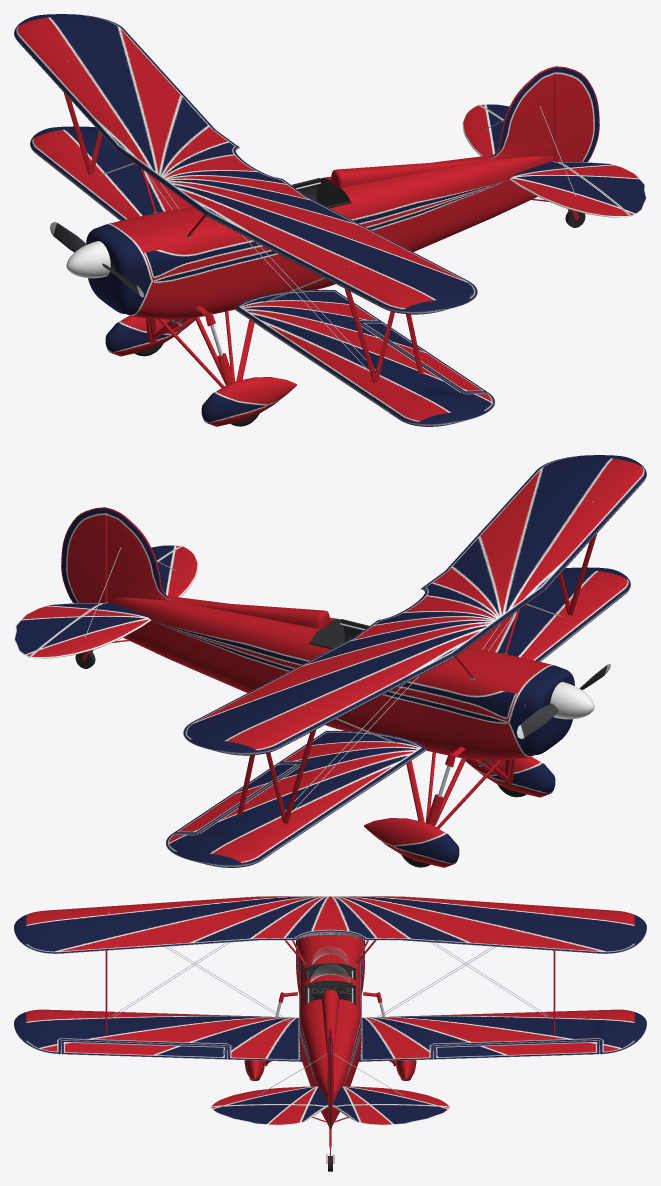
Rendered from great-lakes-like-own-red-sunburst.glb.
3 views of the same model, one above another, from view 1: azimuth 30°, elevation 25°; view 2: azimuth 150°, elevation 25°; view 3: azimuth 270°, elevation 25° (orthographic). The views are drawn at different scales.
Visible parts, largest first — view 1: Wing_Upper, Fuselage_Painted, Wing_Lower, Stab, Rudder, Fin, Wheel_Pant_L, Elevator_L, Strut_Interplane, Wheel_Pant_R, Headrest, Aileron_LL (+4 smaller); view 2: Wing_Upper, Fuselage_Painted, Wing_Lower, Stab, Rudder, Fin, Wheel_Pant_R, Elevator_R, Strut_Interplane, Wheel_Pant_L, Headrest, Aileron_LR (+4 smaller); view 3: Wing_Upper, Wing_Lower, Fuselage_Painted, Stab, Aileron_LL, Aileron_LR, Elevator_L, Elevator_R, Wire_Bracing, Headrest, Strut_Interplane, Cockpit (+1 smaller).
Part boxes in pixels (left/top/right/bottom): Wing_Upper: left=14, top=14, right=477, bottom=314; Fuselage_Painted: left=86, top=155, right=553, bottom=319; Wing_Lower: left=30, top=126, right=494, bottom=426; Stab: left=462, top=105, right=630, bottom=217; Rudder: left=553, top=66, right=599, bottom=162; Fin: left=489, top=66, right=554, bottom=159; Wheel_Pant_L: left=201, top=377, right=296, bottom=426; Elevator_L: left=558, top=162, right=646, bottom=216; Strut_Interplane: left=63, top=92, right=423, bottom=382; Wheel_Pant_R: left=105, top=315, right=195, bottom=356; Headrest: left=331, top=159, right=482, bottom=188; Aileron_LL: left=360, top=321, right=487, bottom=392; Wing_Upper: left=183, top=455, right=646, bottom=755; Fuselage_Painted: left=107, top=596, right=574, bottom=760; Wing_Lower: left=166, top=567, right=630, bottom=867; Stab: left=30, top=546, right=198, bottom=658; Rudder: left=61, top=507, right=107, bottom=603; Fin: left=106, top=507, right=171, bottom=600; Wheel_Pant_R: left=364, top=818, right=459, bottom=867; Elevator_R: left=14, top=603, right=102, bottom=657; Strut_Interplane: left=237, top=533, right=597, bottom=823; Wheel_Pant_L: left=465, top=756, right=555, bottom=797; Headrest: left=178, top=600, right=329, bottom=629; Aileron_LR: left=173, top=762, right=300, bottom=833; Wing_Upper: left=14, top=896, right=646, bottom=953; Wing_Lower: left=14, top=1009, right=646, bottom=1061; Fuselage_Painted: left=296, top=935, right=364, bottom=1128; Stab: left=210, top=1086, right=450, bottom=1107; Aileron_LL: left=61, top=1040, right=227, bottom=1059; Aileron_LR: left=433, top=1040, right=599, bottom=1059; Elevator_L: left=210, top=1104, right=325, bottom=1125; Elevator_R: left=335, top=1104, right=450, bottom=1125; Wire_Bracing: left=108, top=910, right=552, bottom=1094; Headrest: left=321, top=989, right=339, bottom=1055; Strut_Interplane: left=105, top=950, right=555, bottom=1035; Cockpit: left=304, top=970, right=356, bottom=1002.
Bounding box in the file's own units: 6.24 × 2.62 × 8.13.
Materials: 38 (7 with a texture image).
